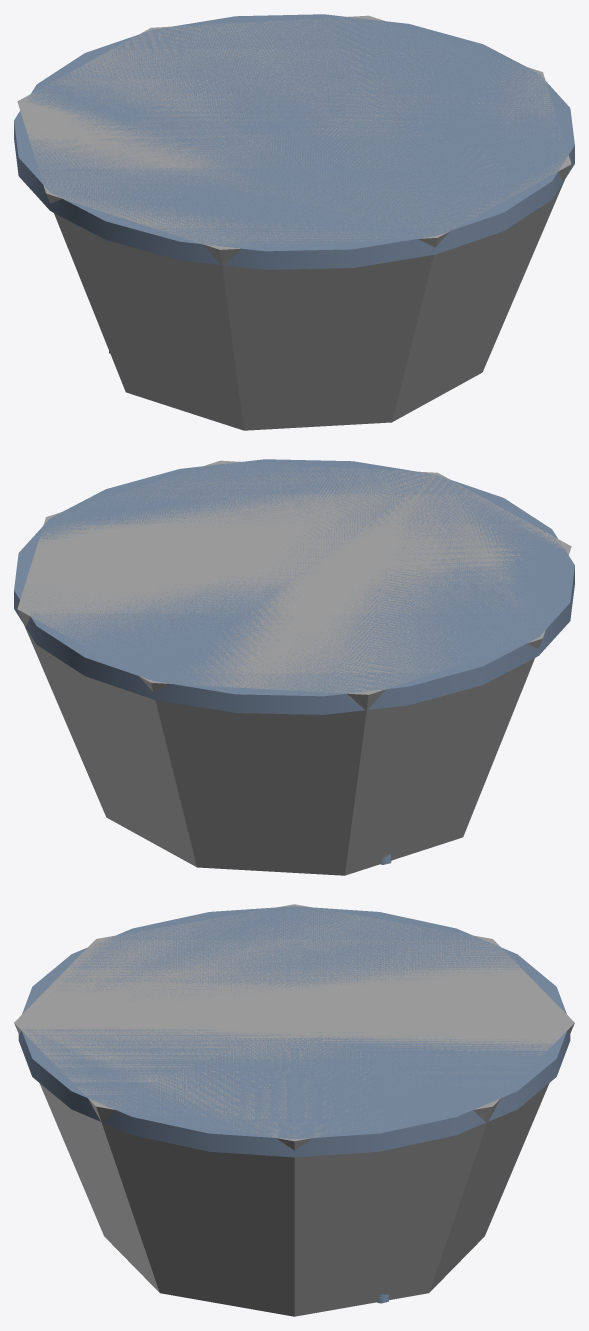
Rendered from SM_TableSmall_00.fbx.
3 views of the same model, one above another, from view 1: azimuth 30°, elevation 25°; view 2: azimuth 150°, elevation 25°; view 3: azimuth 270°, elevation 25° (orthographic). The views are drawn at different scales.
Visible parts, largest first — view 1: TableSmall_00_COL, TableSmall_00; view 2: TableSmall_00_COL, TableSmall_00; view 3: TableSmall_00_COL, TableSmall_00.
Boxes of the visible parts, <box> form: TableSmall_00_COL: <box>17,15,571,430</box>; TableSmall_00: <box>14,14,574,353</box>; TableSmall_00_COL: <box>17,460,571,875</box>; TableSmall_00: <box>14,459,574,864</box>; TableSmall_00_COL: <box>14,904,574,1316</box>; TableSmall_00: <box>18,906,570,1303</box>.
Bounding box in the file's own units: 112 × 47 × 112.
